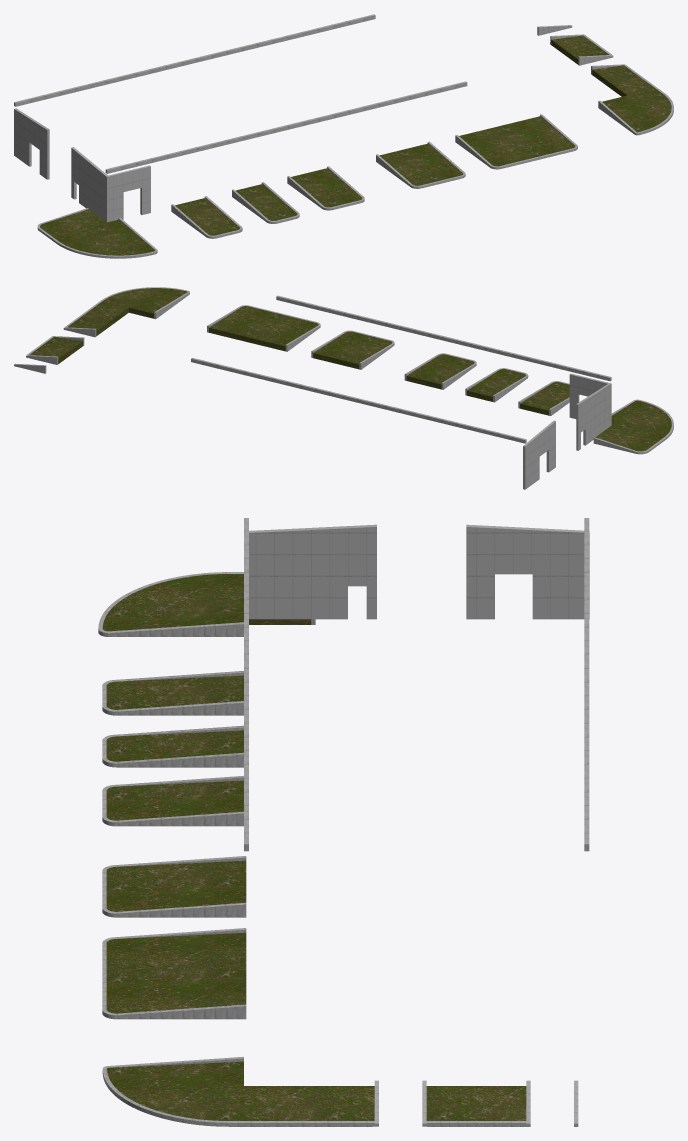
The model's file is NoLod_0.glb.
The picture shows the model from 3 angles, top to bottom: view 1: azimuth 30°, elevation 25°; view 2: azimuth 150°, elevation 25°; view 3: azimuth 270°, elevation 25°; orthographic projection. The views are drawn at different scales.
Parts seen in each view (by area): view 1: rtc; view 2: rtc; view 3: rtc.
Boxes of the visible parts, box(x1,y1,x2,y2) form: rtc: box(14, 14, 673, 258); rtc: box(14, 287, 673, 489); rtc: box(98, 518, 589, 1126).
Size of the model in its own units: 60.17 by 5.44 by 22.68.
3 materials, 3 textured.
